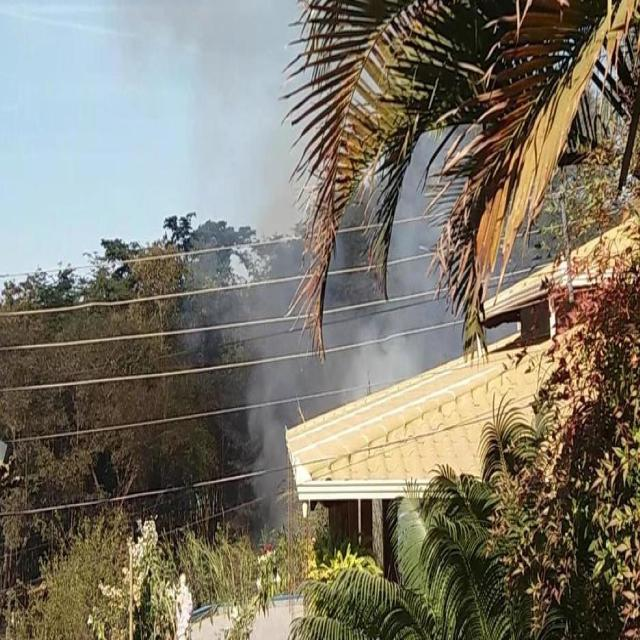Smoke: (187, 234, 423, 526)
